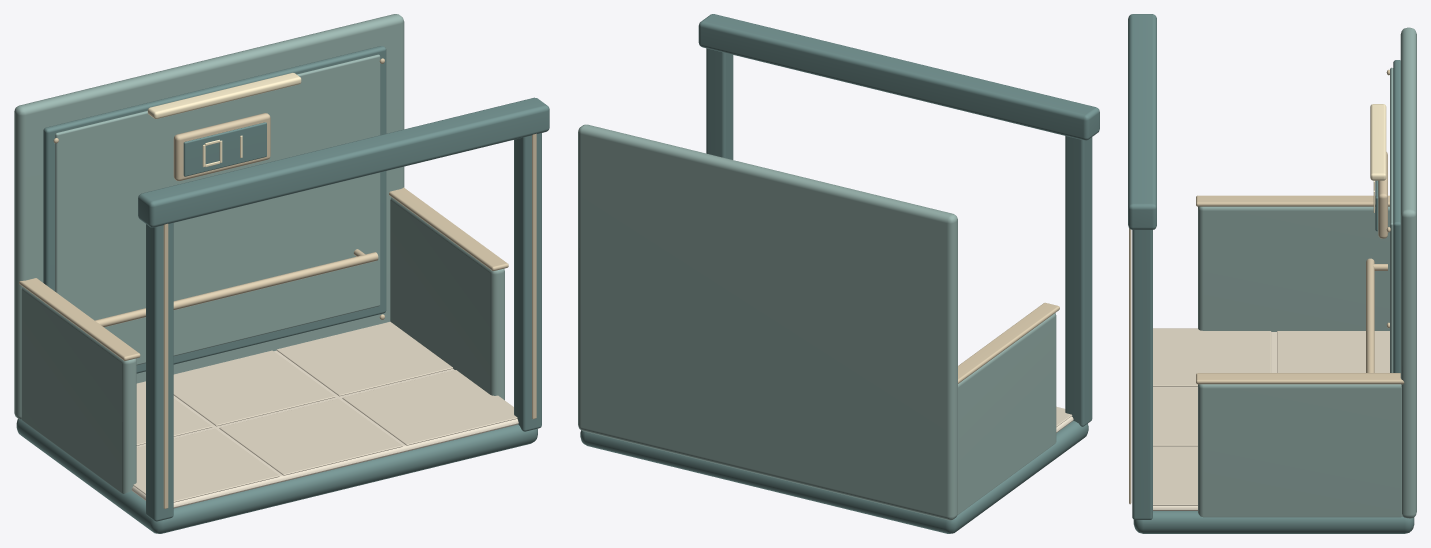
File: cabin.fbx
3 views of the same model, side by side, from view 1: azimuth 30°, elevation 25°; view 2: azimuth 150°, elevation 25°; view 3: azimuth 270°, elevation 25° (orthographic). The views are drawn at different scales.
Visible parts, largest first — view 1: cabin; view 2: cabin; view 3: cabin.
Boxes of the visible parts, left/top/right/bottom form: cabin: left=14, top=14, right=549, bottom=533; cabin: left=578, top=14, right=1099, bottom=533; cabin: left=1128, top=14, right=1416, bottom=533.
Bounding box in the file's own units: 570 × 461 × 360.
